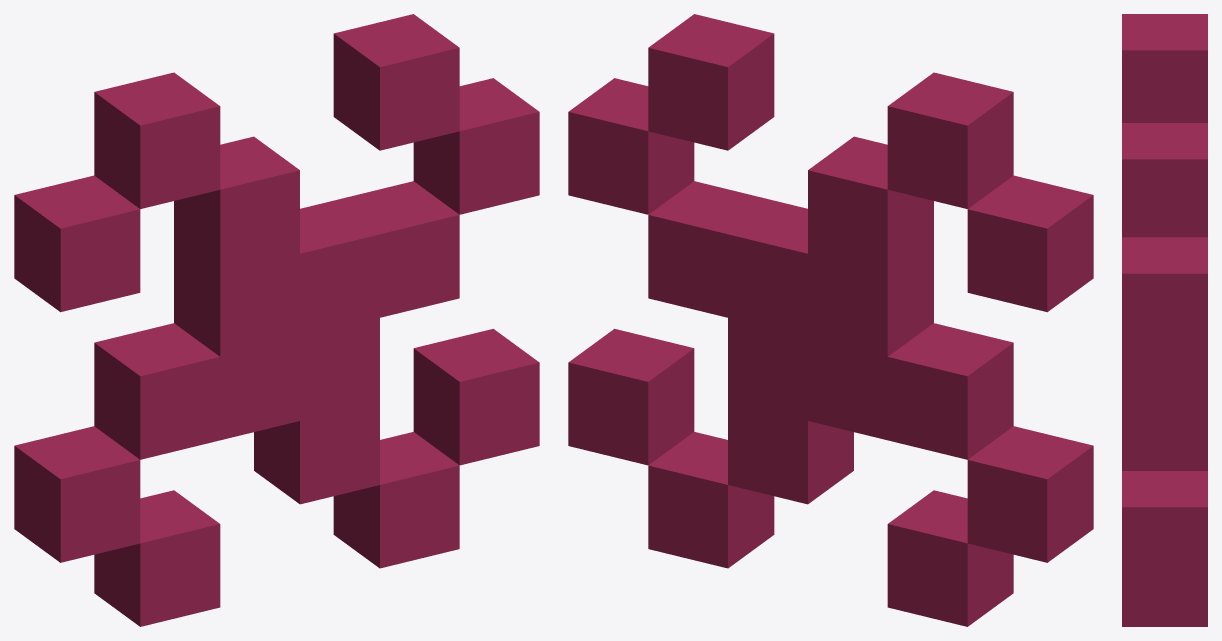
File: Fireball-Small-Purple.vox.obj
The picture shows the model from 3 angles, left to right: view 1: azimuth 30°, elevation 25°; view 2: azimuth 150°, elevation 25°; view 3: azimuth 270°, elevation 25°; orthographic projection. The views are drawn at different scales.
Bounding box in the file's own units: 0.6 × 0.6 × 0.1.
1 material, 1 textured.
